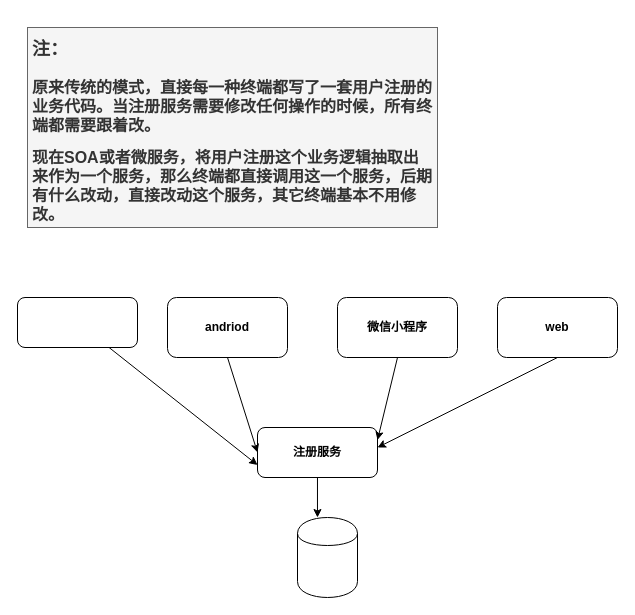
This 635x615 diagram has some shape labels left out. Each missing label, with the centre of its shape:
DB: pixel 327 557
IOS: pixel 77 322
